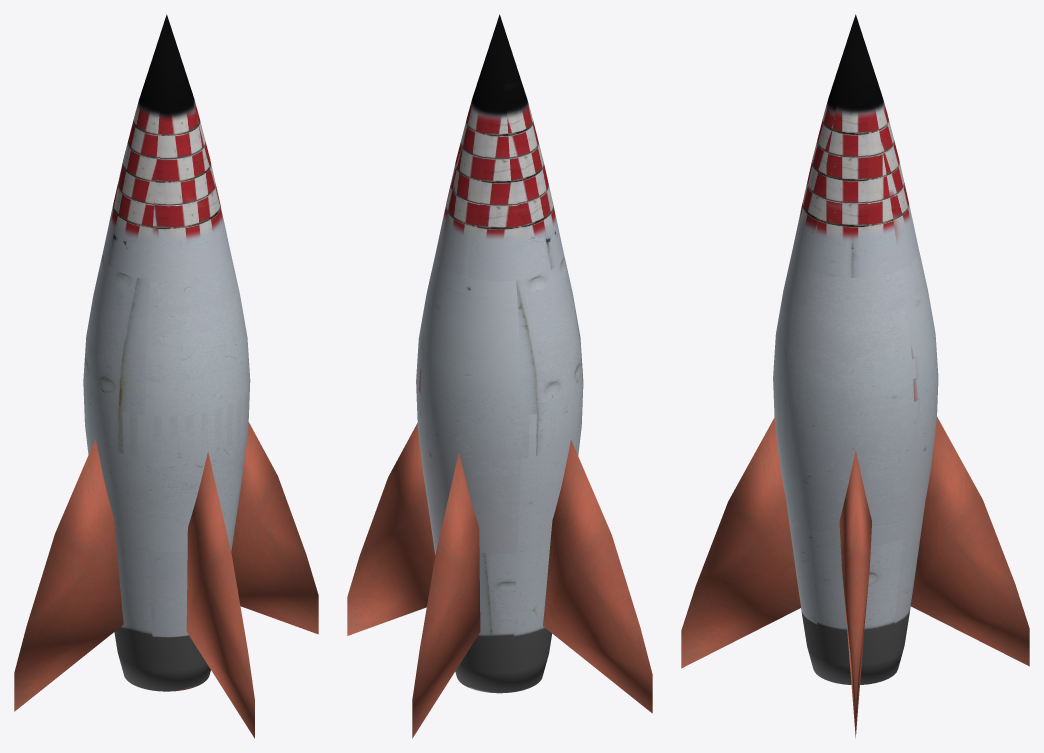
Rendered from rocket.obj.
3 renders of one model, left to right at view 1: azimuth 30°, elevation 25°; view 2: azimuth 150°, elevation 25°; view 3: azimuth 270°, elevation 25°, orthographic.
Parts seen in each view (by area): view 1: Cylinder, Cube.002_Cube.003; view 2: Cylinder, Cube.002_Cube.003; view 3: Cylinder, Cube.002_Cube.003.
Part boxes in pixels (x1,y1,x2,y2): Cylinder: (83,14,250,691); Cube.002_Cube.003: (14,422,318,738); Cylinder: (416,14,583,693); Cube.002_Cube.003: (347,423,652,738); Cylinder: (773,14,938,684); Cube.002_Cube.003: (681,417,1029,737).
Size of the model in its own units: 1.87 by 3.87 by 1.87.
Materials: 2 (2 with a texture image).
